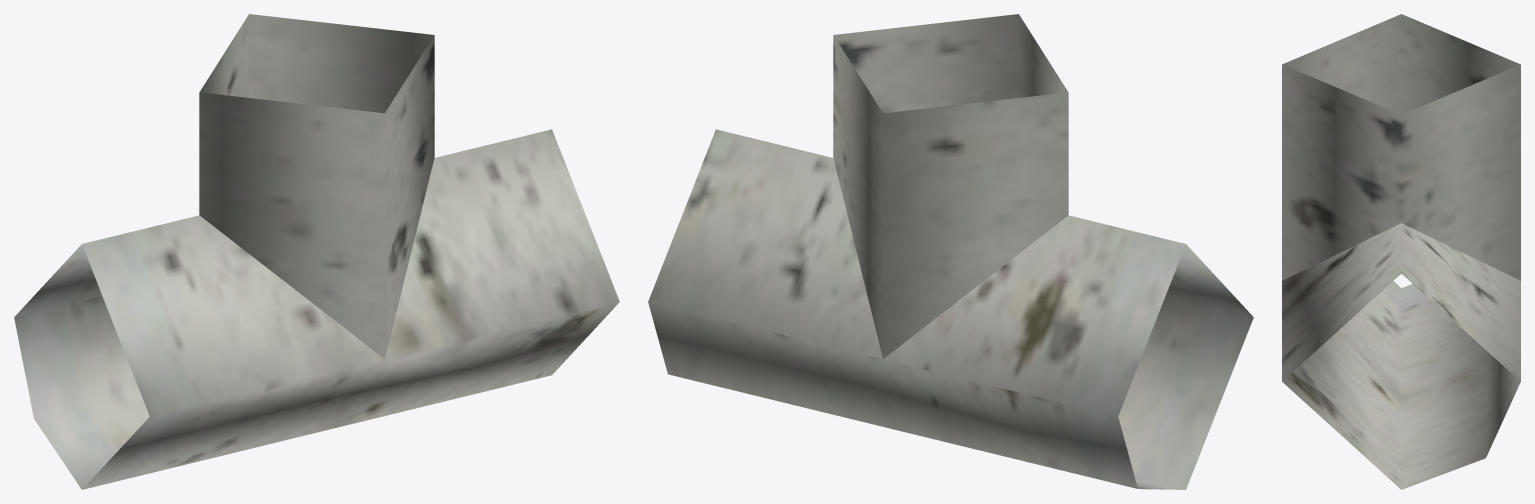
The model's file is p6_garage_pipes_t_LOD2.obj.
3 renders of one model, left to right at view 1: azimuth 30°, elevation 25°; view 2: azimuth 150°, elevation 25°; view 3: azimuth 270°, elevation 25°, orthographic. The views are drawn at different scales.
Parts seen in each view (by area): view 1: mtl_p6_pipes_garage; view 2: mtl_p6_pipes_garage; view 3: mtl_p6_pipes_garage.
Part boxes in pixels (x1,y1,x2,y2): mtl_p6_pipes_garage: [14, 14, 619, 489]; mtl_p6_pipes_garage: [648, 14, 1253, 489]; mtl_p6_pipes_garage: [1282, 14, 1520, 489].
Size of the model in its own units: 10.16 by 7.62 by 5.08.
